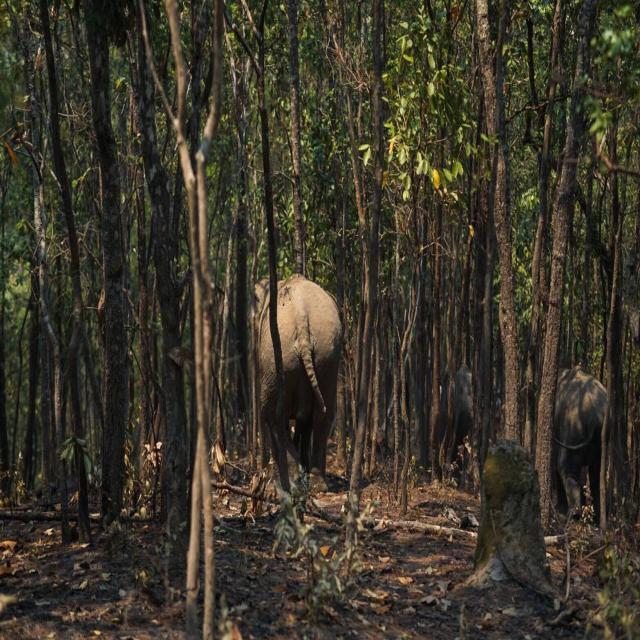Elephant: (227, 232, 360, 517), (529, 328, 637, 552)
